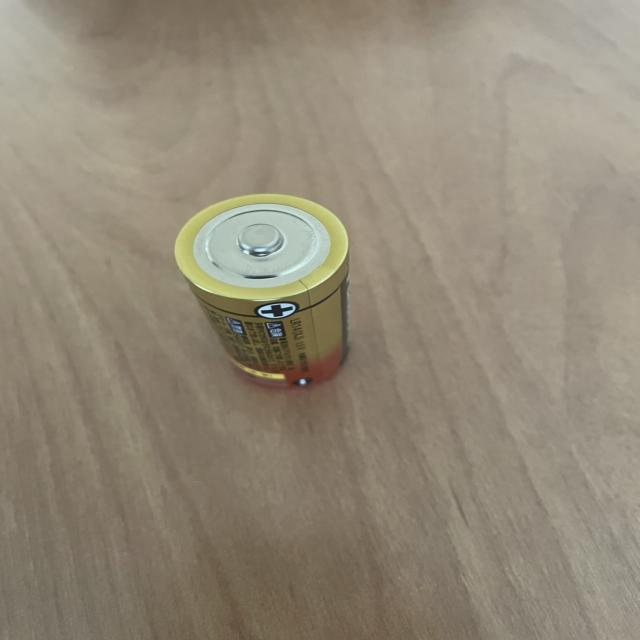hazardous waste: (161, 184, 366, 393)
